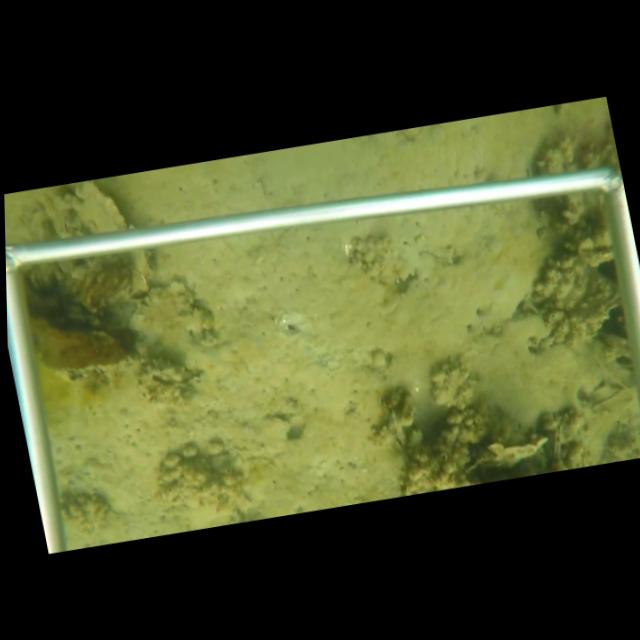Oyster-Closed: (549, 415, 563, 467)
Oyster-Indeterminate: (73, 180, 136, 234)
